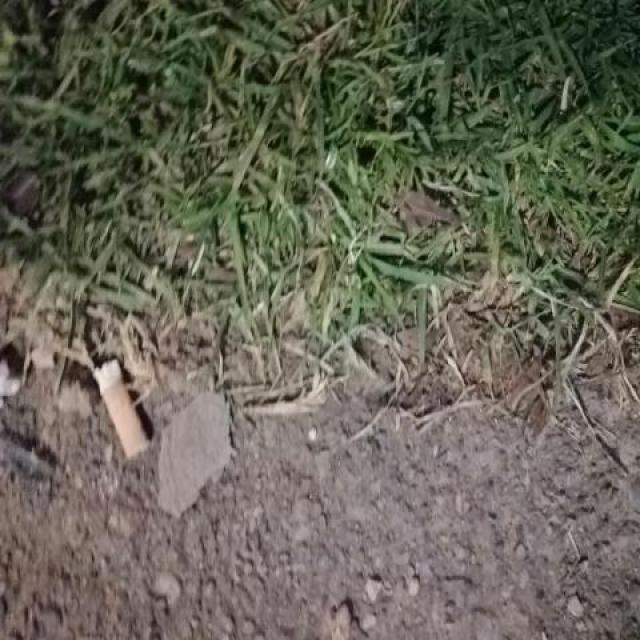non-organic waste: (85, 354, 156, 462)
